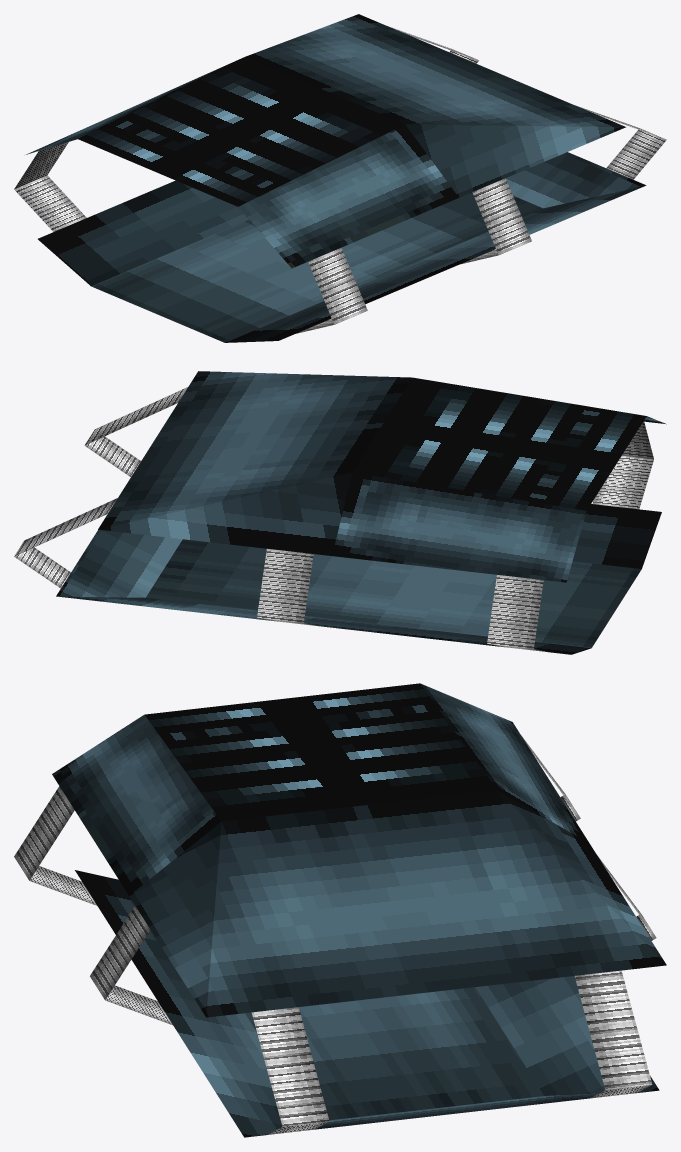
The model's file is primary_080.glb.
3 renders of one model, top to bottom at view 1: azimuth 30°, elevation 25°; view 2: azimuth 150°, elevation 25°; view 3: azimuth 270°, elevation 25°, orthographic. The views are drawn at different scales.
Parts seen in each view (by area): view 1: Object; view 2: Object; view 3: Object.
Boxes of the visible parts, x1,y1,x2,y2 form: Object: (14, 14, 666, 342); Object: (14, 371, 666, 654); Object: (14, 683, 666, 1137).
Size of the model in its own units: 0.7534 by 0.2002 by 0.6131.
3 materials, 3 textured.
